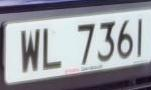1: (133, 14, 145, 65)
3: (96, 17, 117, 67)
6: (115, 15, 135, 65)
7: (74, 18, 98, 71)
L: (40, 22, 67, 77)
W: (18, 23, 44, 78)
